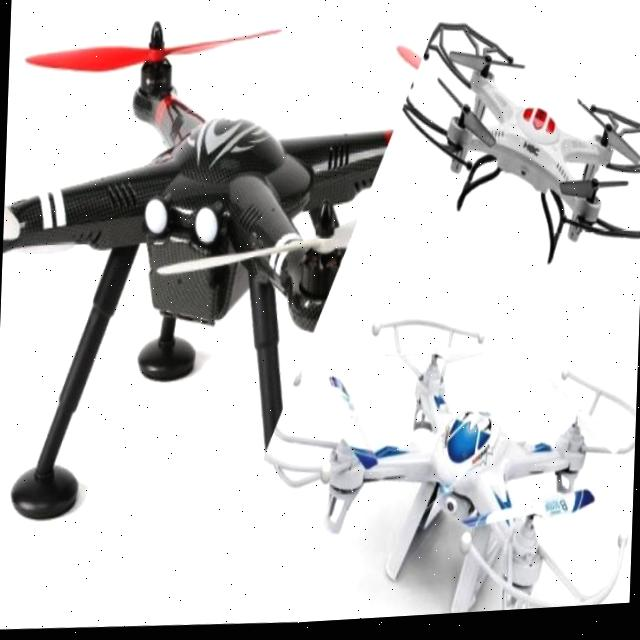drone: (0, 12, 420, 453), (279, 298, 639, 627), (385, 0, 640, 273)
